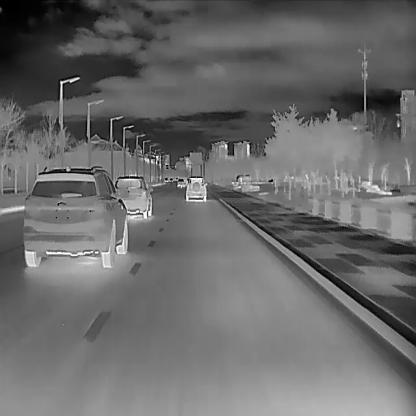bus: (236, 174, 250, 181)
car: (23, 163, 128, 268), (114, 174, 152, 218), (184, 176, 206, 201), (176, 178, 184, 187), (164, 177, 168, 182), (169, 177, 172, 182)
